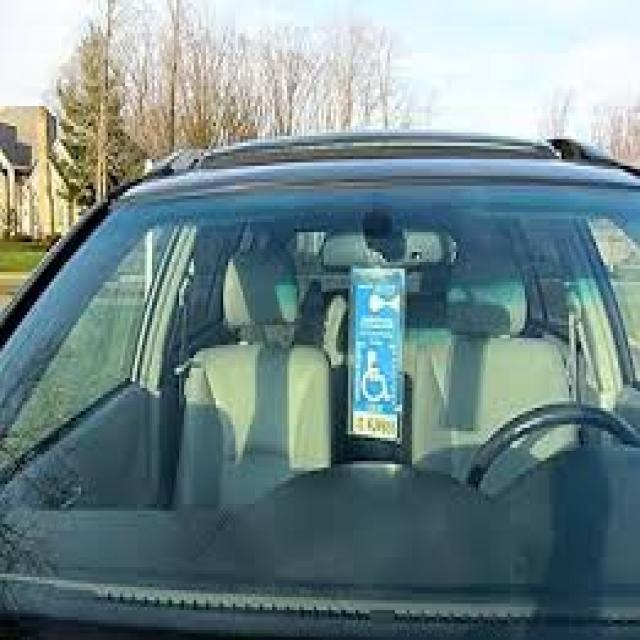symbol_of_access: (359, 350, 397, 406)
